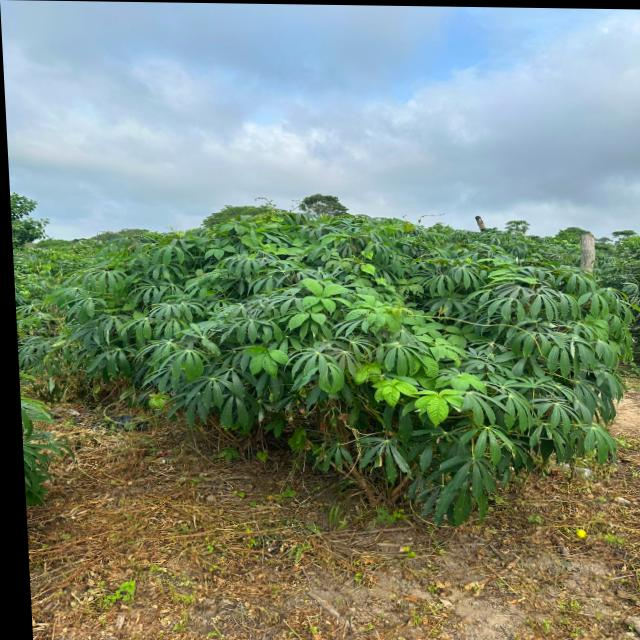Maleza: (356, 358, 413, 407), (414, 384, 462, 424), (358, 296, 405, 336), (240, 338, 280, 373), (306, 280, 335, 309), (291, 305, 322, 332), (437, 335, 469, 358), (356, 257, 383, 278), (355, 236, 374, 260)
